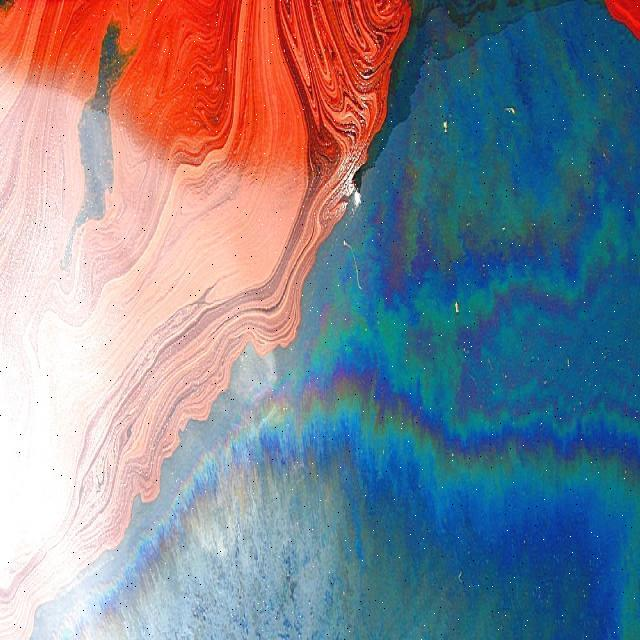oil: (0, 0, 420, 539)
